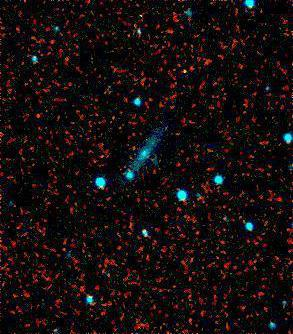star: (165, 59, 195, 89)
